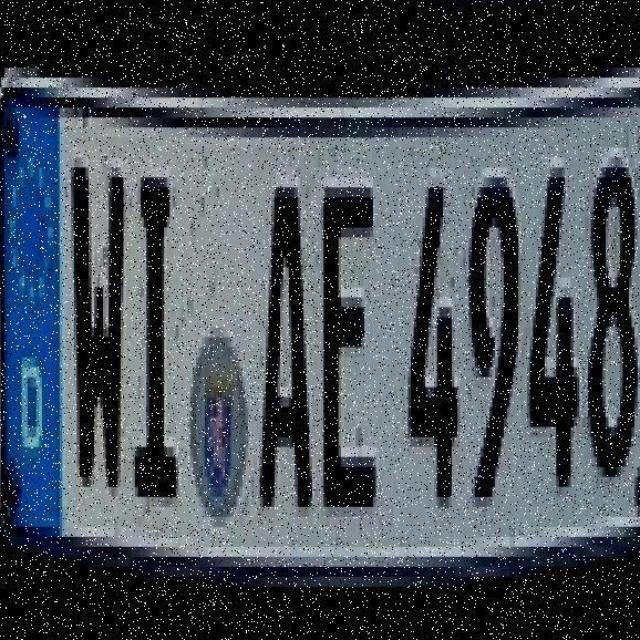license-plate: (4, 84, 640, 612)
